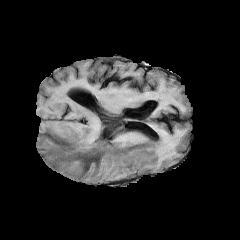glioma: (36, 107, 162, 179)
